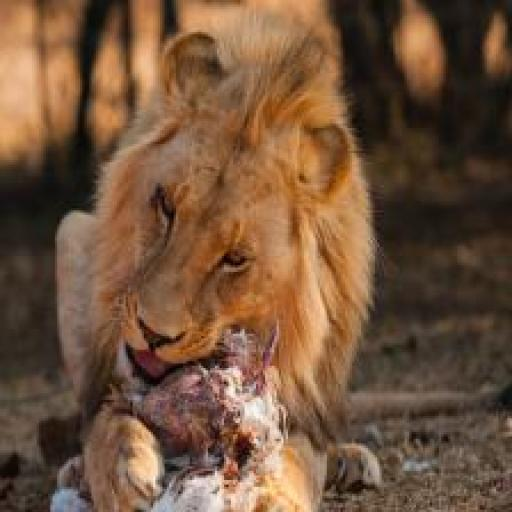lion: (46, 11, 383, 511)
